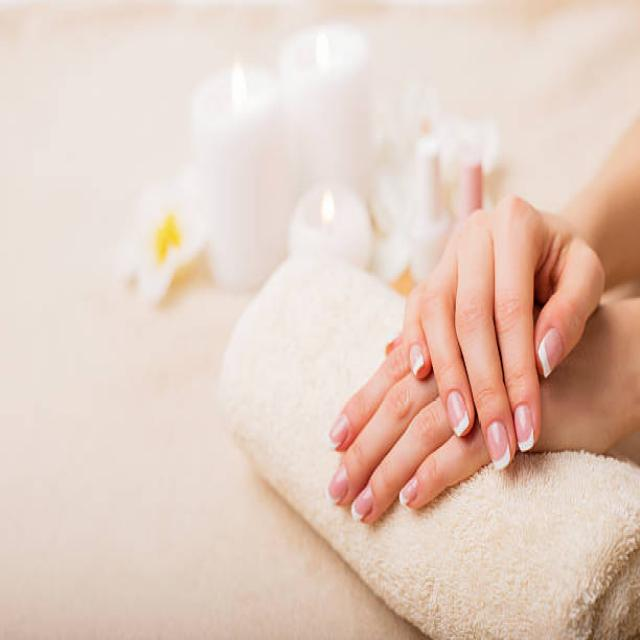Nail: (486, 422, 510, 470), (538, 328, 562, 376), (446, 392, 470, 437), (514, 405, 534, 451), (328, 463, 349, 503), (351, 484, 374, 520), (329, 414, 349, 449), (408, 343, 423, 375), (399, 478, 416, 505)
